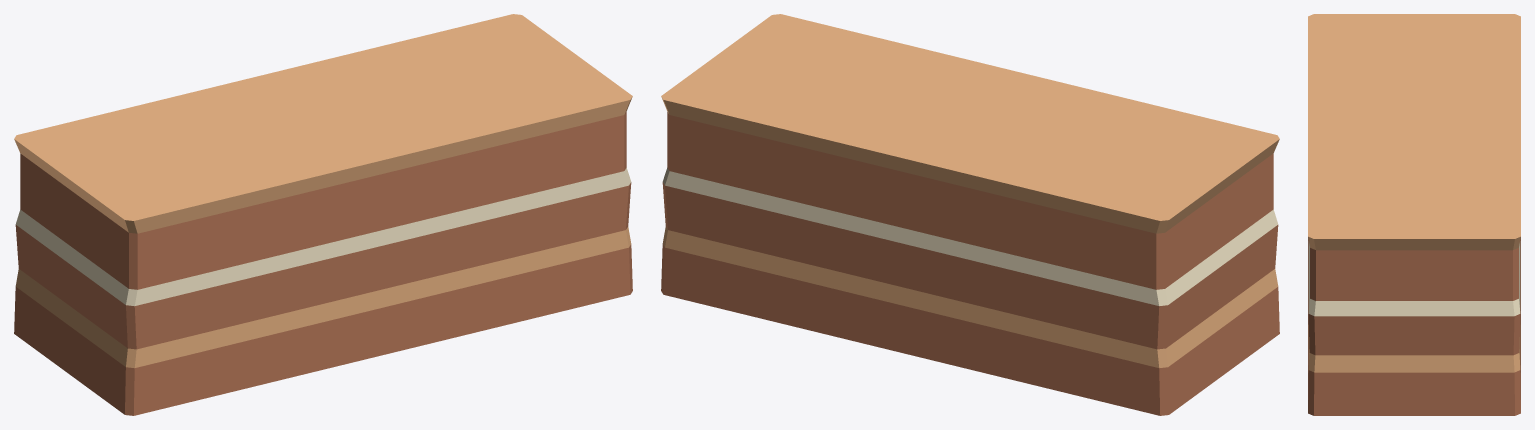
Rendered from obstacle_canyon.glb.
The picture shows the model from 3 angles, left to right: view 1: azimuth 30°, elevation 25°; view 2: azimuth 150°, elevation 25°; view 3: azimuth 270°, elevation 25°; orthographic projection. The views are drawn at different scales.
Parts seen in each view (by area): view 1: static_Terracotta; view 2: static_Terracotta; view 3: static_Terracotta.
Boxes of the visible parts, x1,y1,x2,y2 form: static_Terracotta: (14,14,632,415); static_Terracotta: (661,14,1279,415); static_Terracotta: (1308,14,1520,415).
Size of the model in its own units: 9 by 3.3 by 3.6.
